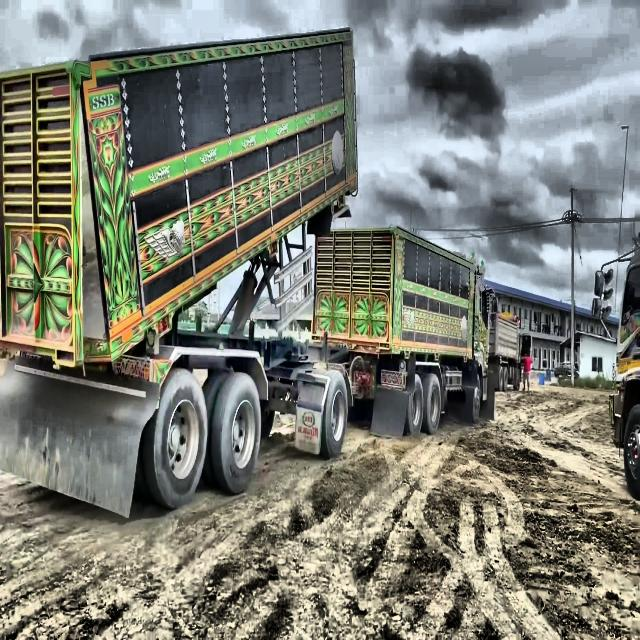trailer: (0, 24, 494, 507), (418, 304, 527, 394)
